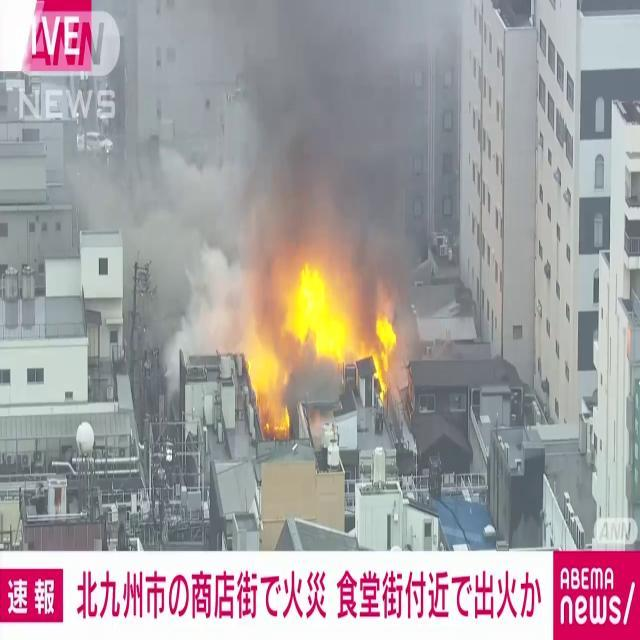Fire: (240, 253, 400, 423)
Smoke: (201, 1, 459, 294)
